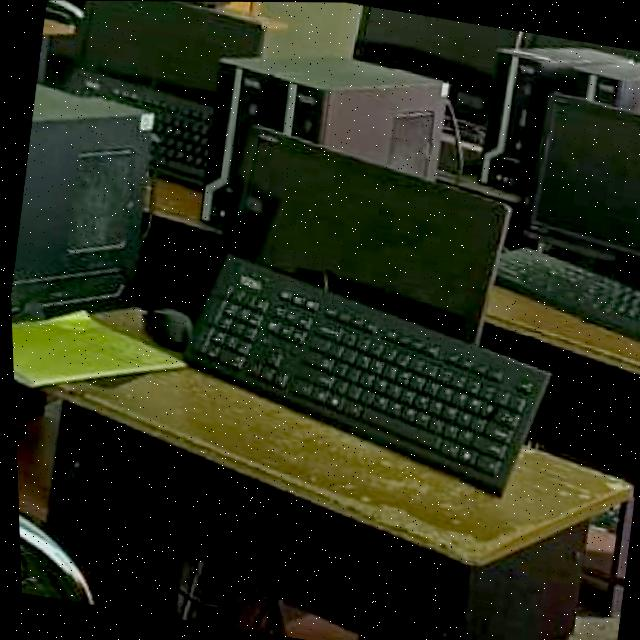offscreen: (229, 134, 508, 316), (531, 94, 640, 289)
